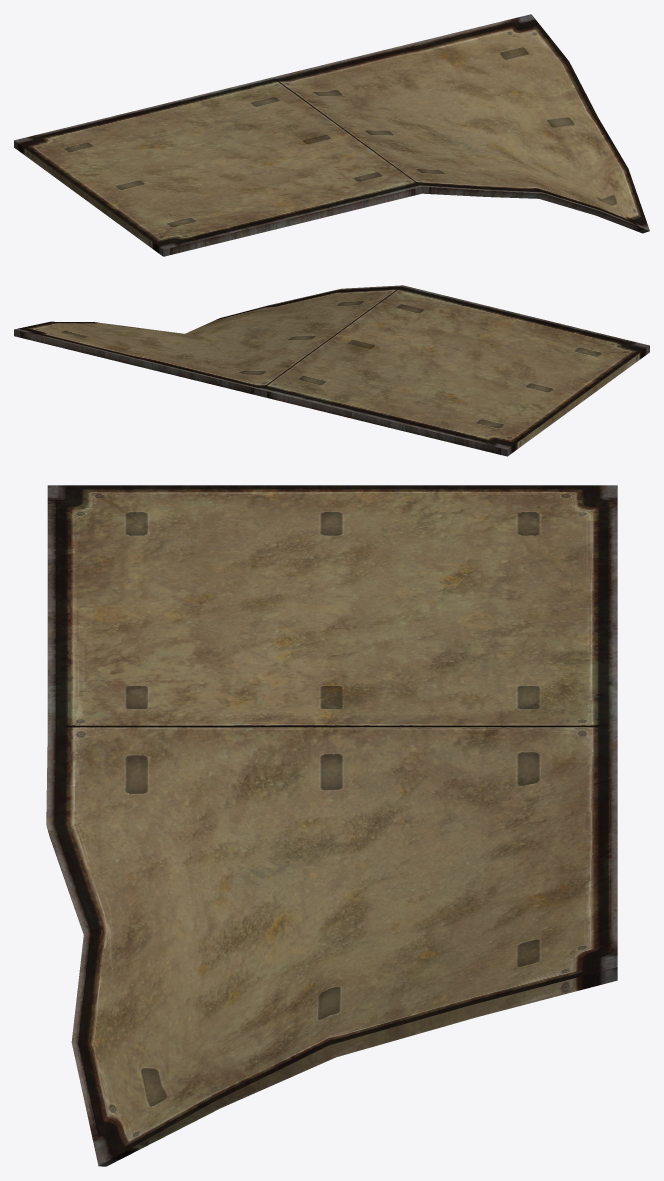
Rendered from pptiling_light_damaged01.dae.
The picture shows the model from 3 angles, top to bottom: view 1: azimuth 30°, elevation 25°; view 2: azimuth 150°, elevation 25°; view 3: azimuth 270°, elevation 25°; orthographic projection. The views are drawn at different scales.
Parts seen in each view (by area): view 1: pCube1; view 2: pCube1; view 3: pCube1.
Boxes of the visible parts, box(x1,y1,x2,y2) form: pCube1: box(14, 14, 649, 256); pCube1: box(14, 285, 649, 456); pCube1: box(46, 485, 617, 1166).
Bounding box in the file's own units: 4 × 0.8552 × 2.01.
